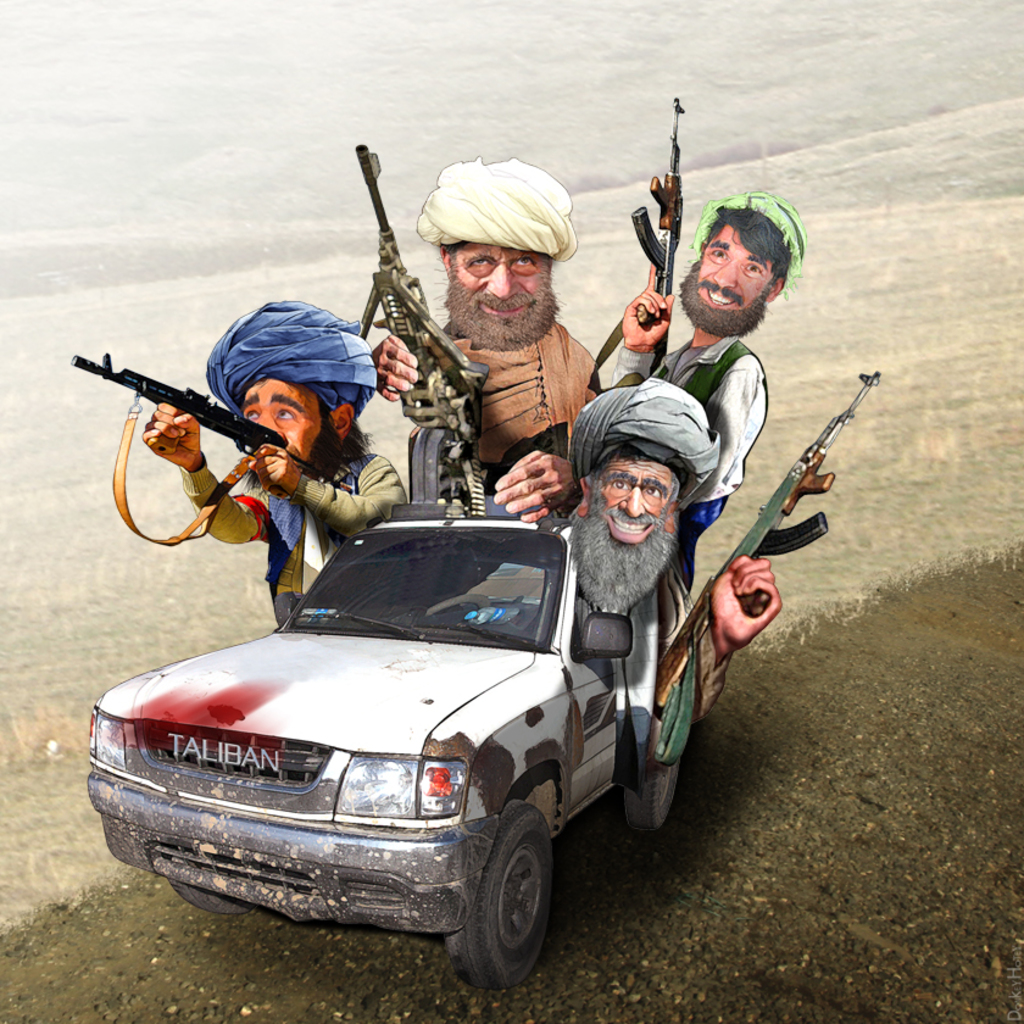Car: (86, 507, 722, 958)
